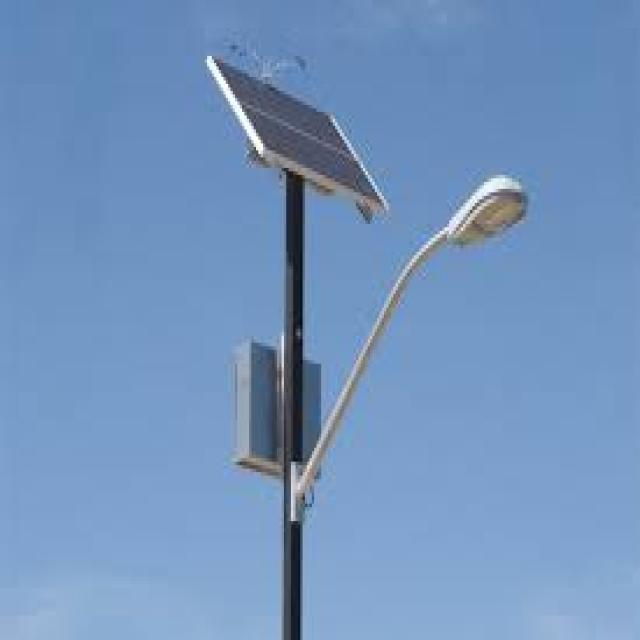Street Light: (235, 175, 528, 640)
